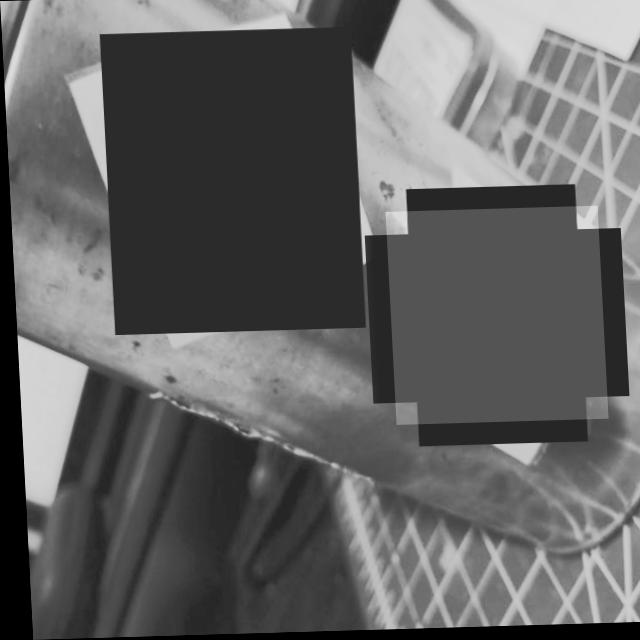qr_code: (99, 28, 363, 335), (383, 208, 604, 426)
